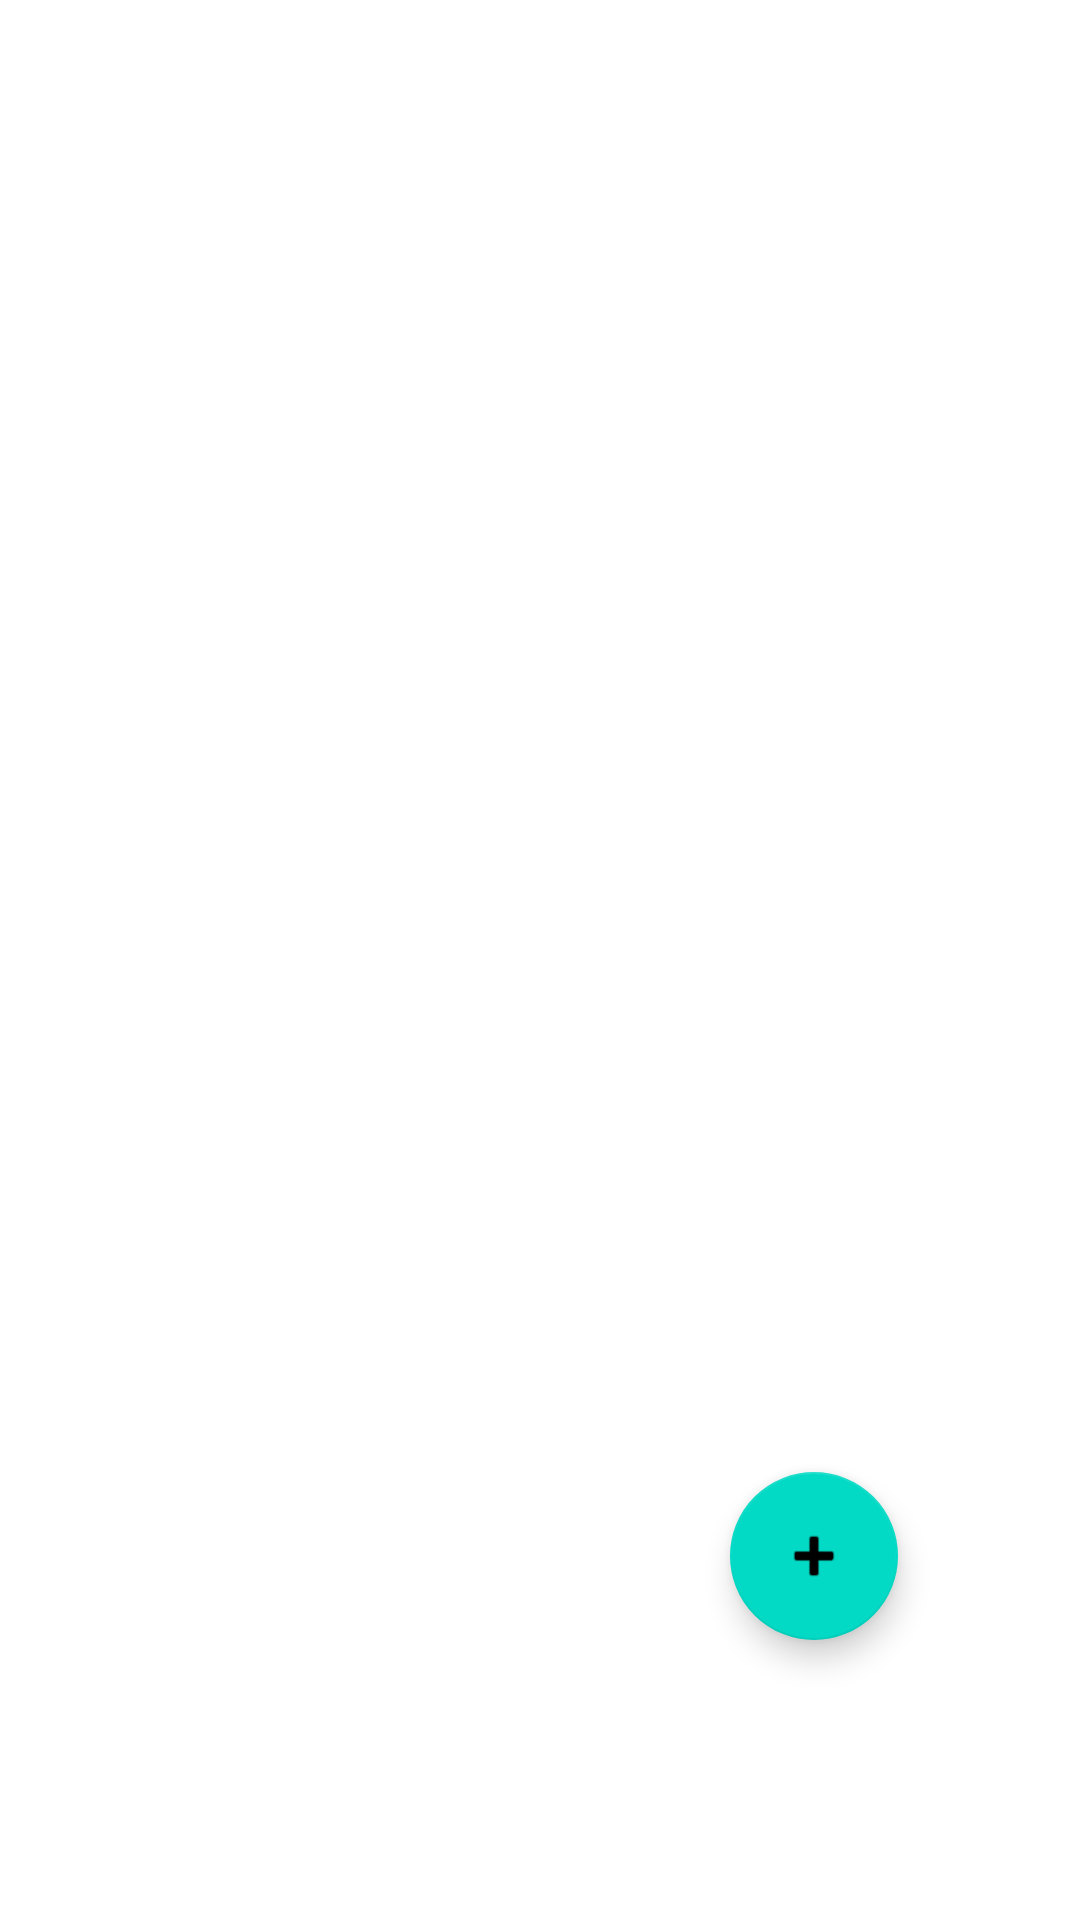

Locate icon controls on the screen. Image size 1080*1920, boxes as detection(x1, y1, x2, y2).
add: detection(730, 1472, 898, 1640)
